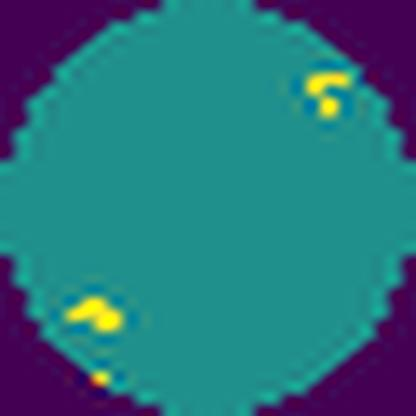Loc: (66, 290, 124, 336), (306, 70, 352, 119)
